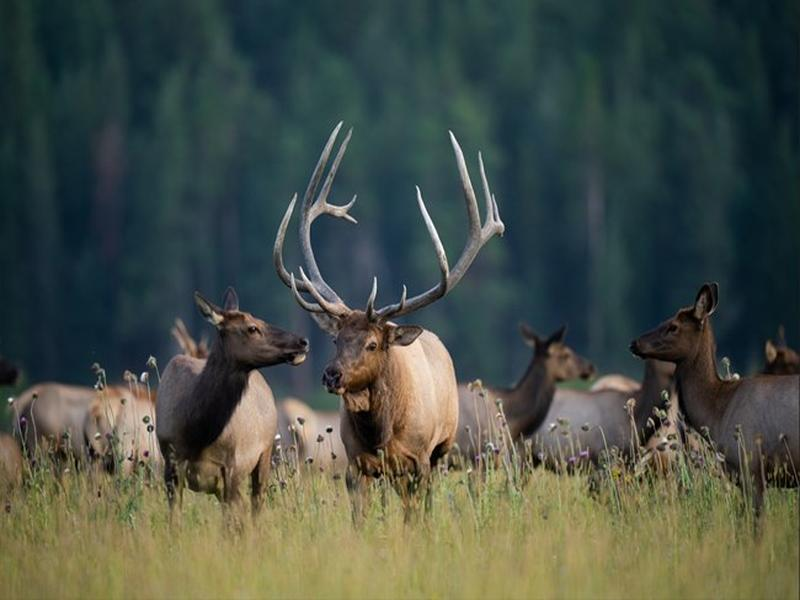elk: (295, 190, 472, 522), (632, 289, 800, 555), (157, 299, 307, 508), (446, 337, 585, 474)
